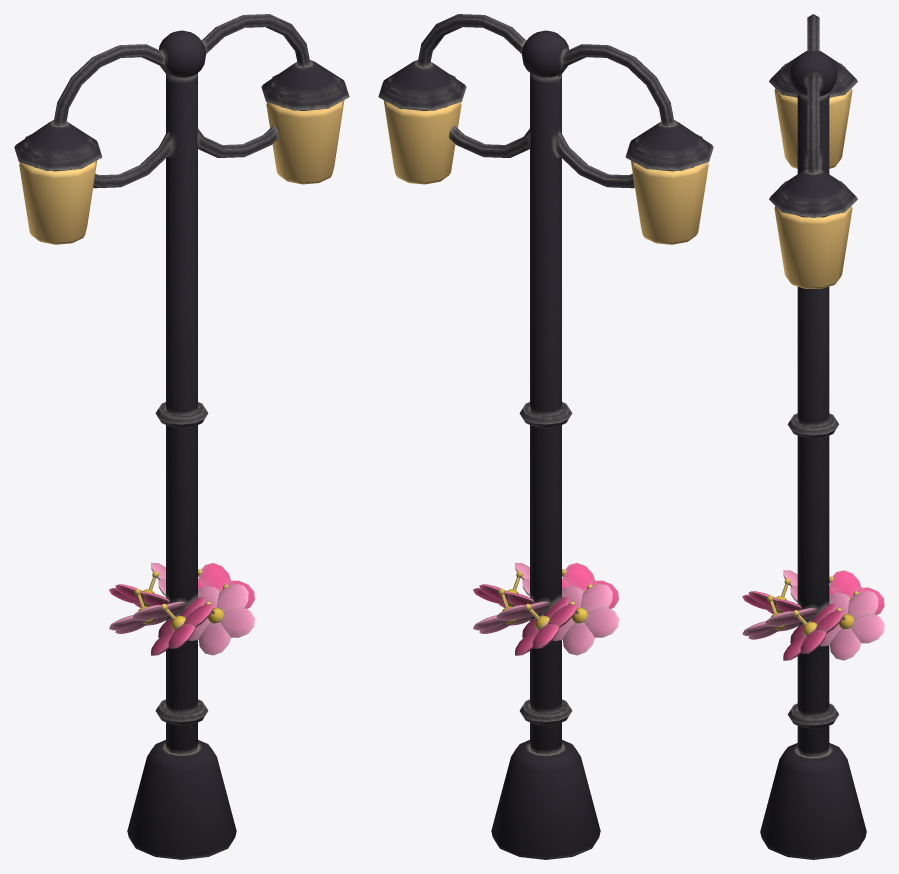
The model's file is rc_victorian_lamp.fbx.
3 renders of one model, left to right at view 1: azimuth 30°, elevation 25°; view 2: azimuth 150°, elevation 25°; view 3: azimuth 270°, elevation 25°, orthographic. The views are drawn at different scales.
Visible parts, largest first — view 1: rc_victorian_lamp; view 2: rc_victorian_lamp; view 3: rc_victorian_lamp.
Boxes of the visible parts, left/top/right/bottom form: rc_victorian_lamp: left=14, top=14, right=349, bottom=859; rc_victorian_lamp: left=378, top=14, right=713, bottom=859; rc_victorian_lamp: left=742, top=14, right=884, bottom=859.
Size of the model in its own units: 1.85 by 4.39 by 0.7166.
5 materials, 5 textured.
